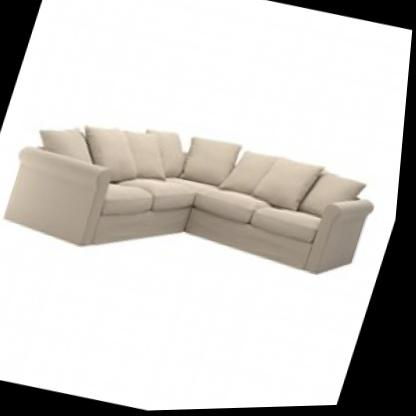Sofa: (0, 72, 403, 324)
